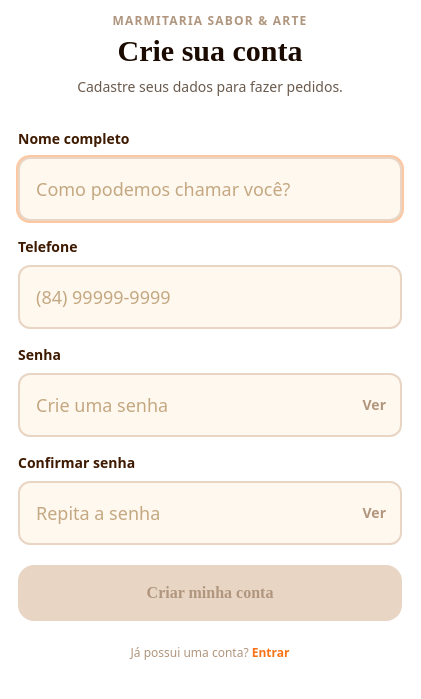
Test: ClientRegisterPage › mostra erro de nome muito curto
In the field labelled "Nome completo": (210, 189) [18,157,402,221], type "Jo"
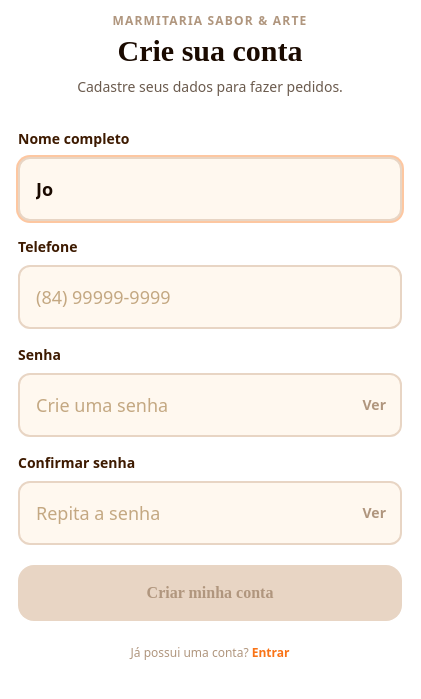
In the field labelled "Telefone": (210, 297) [18,265,402,329], type "84999999999"
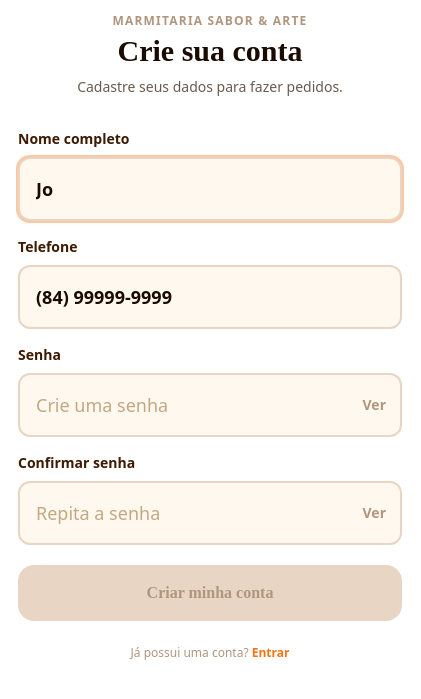
In the password field labelled "Senha": (210, 405) [18,373,402,437], type "12345678"
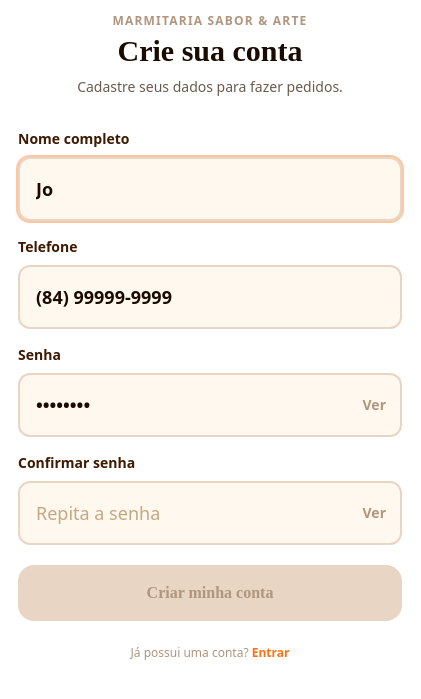
In the password field labelled "Confirmar senha": (210, 513) [18,481,402,545], type "12345678"
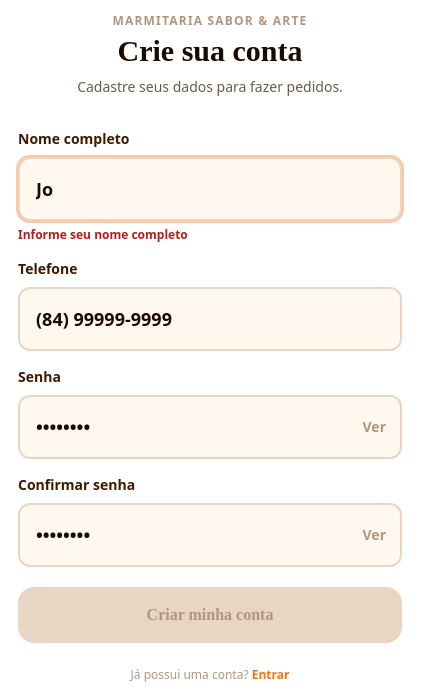
Expected: the text "Informe seu nome completo" is shown, [18,226,188,243]
